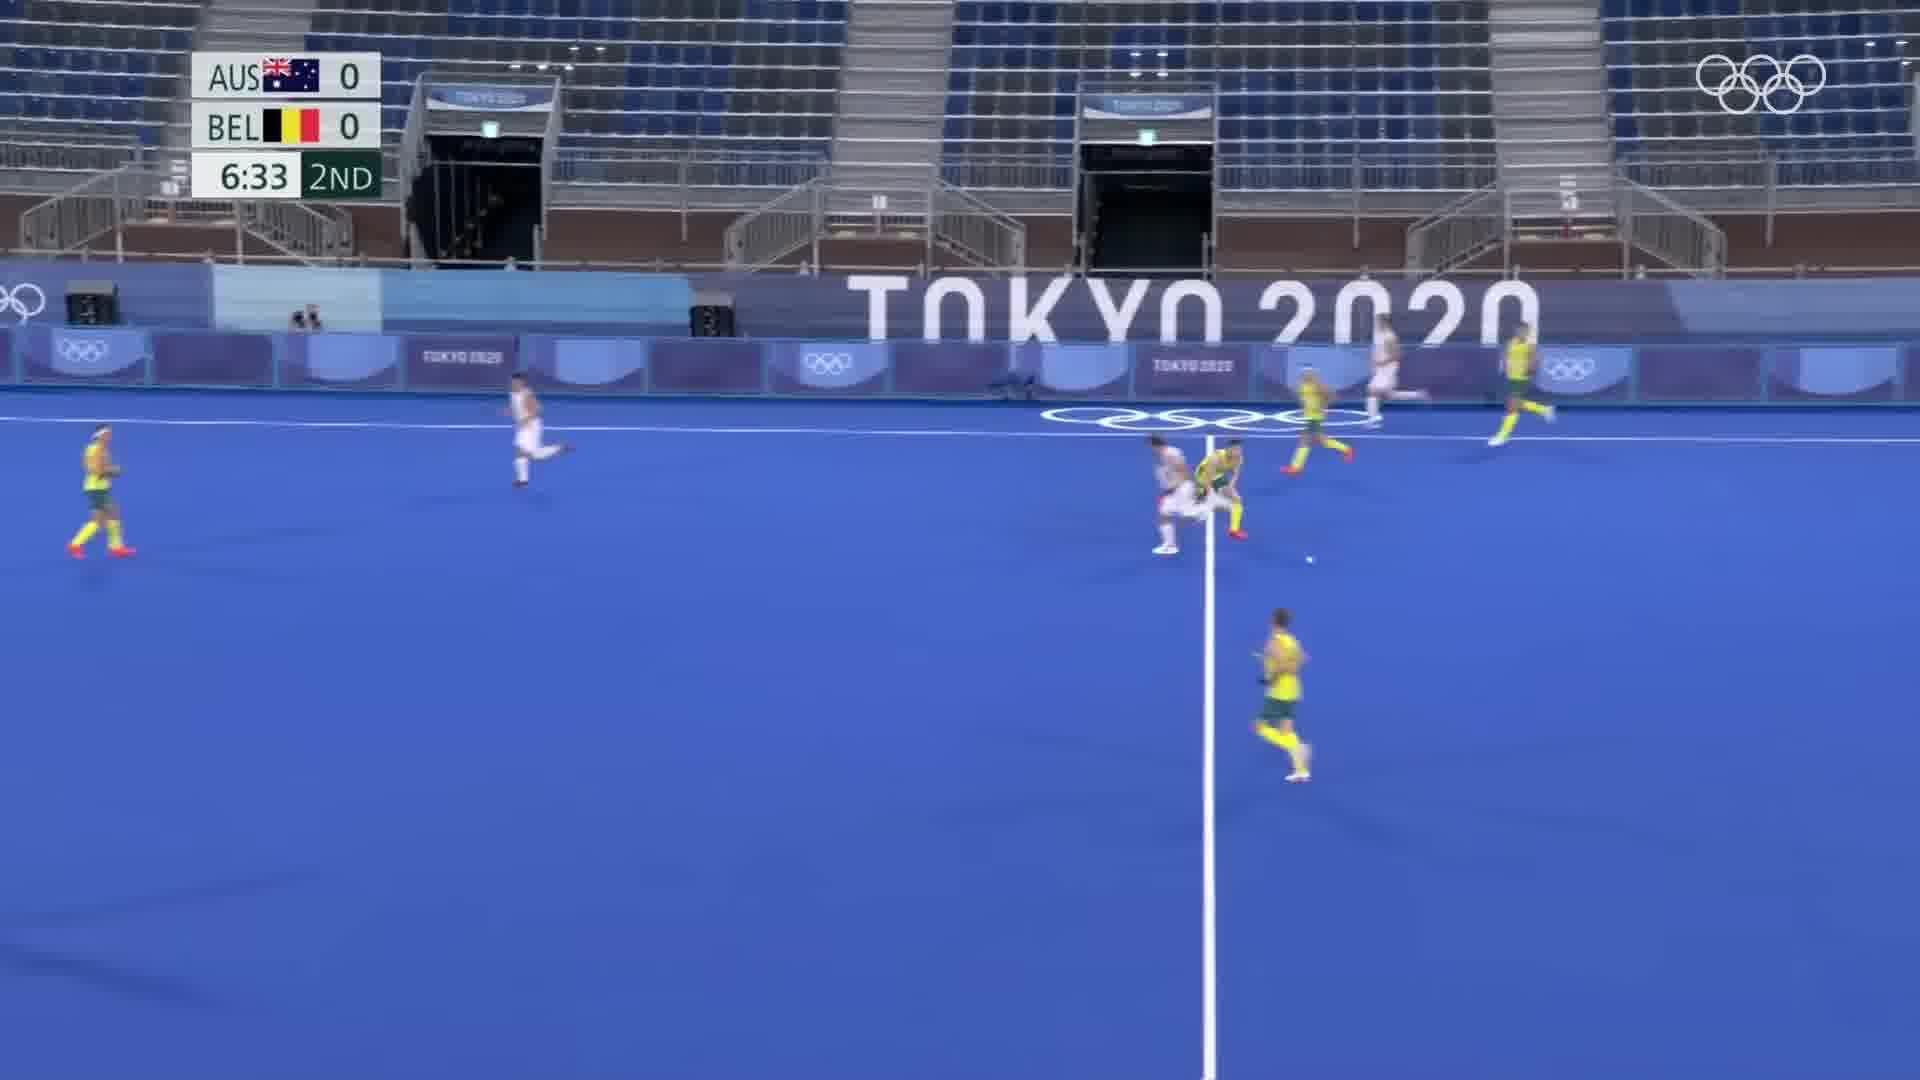ball: (1296, 546, 1325, 574)
